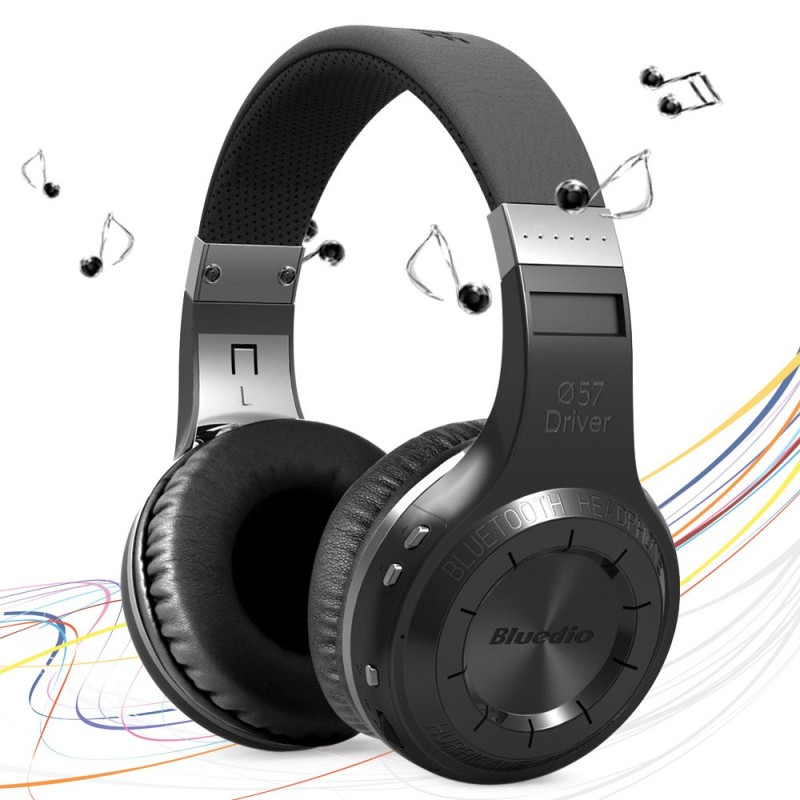Headphone: (118, 13, 700, 795)
